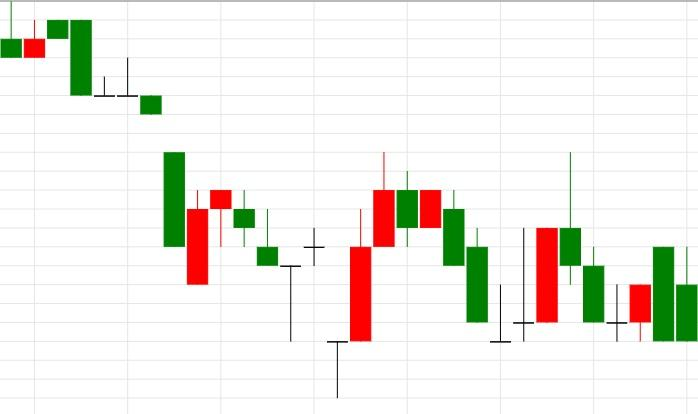morning_star_rise: (535, 151, 653, 342)
